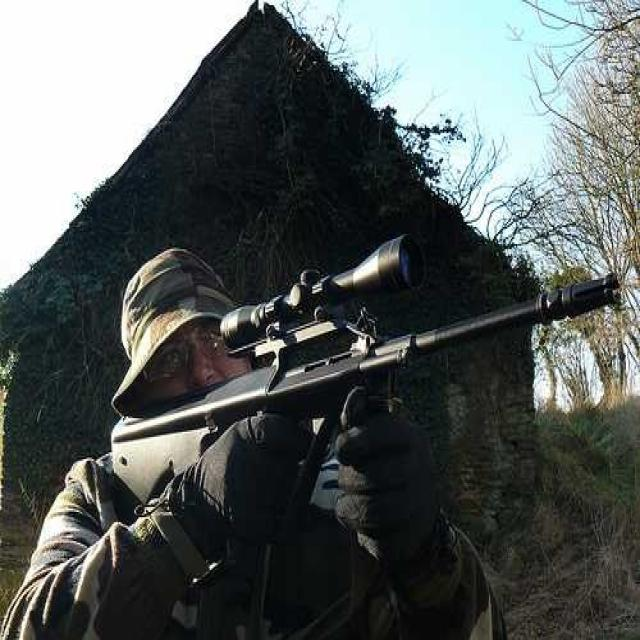heavyweapon: (88, 191, 637, 568)
